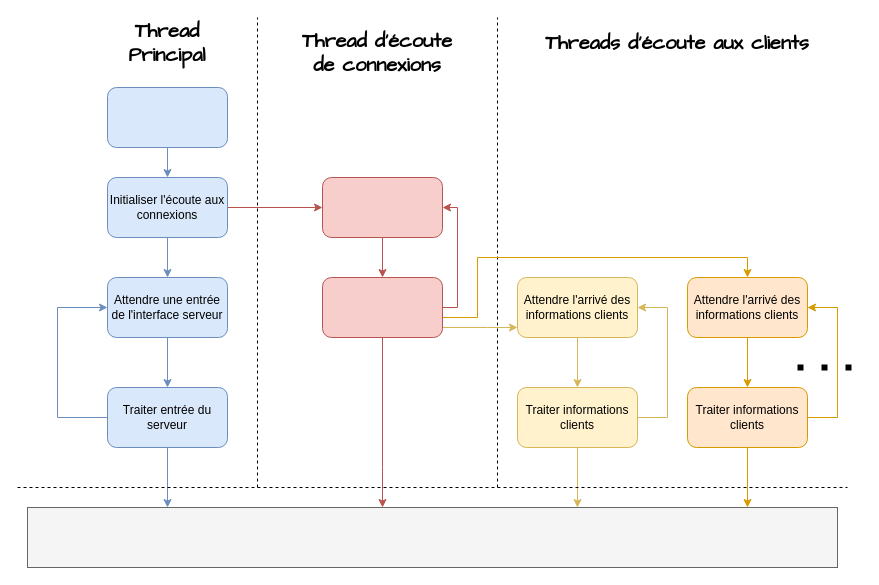
Some shapes in this 879 by 585 pixel diagram are drawn without their labels. Here are the shapes that lost their labels. From the top down, the centre of each, then its label:
(167,117): Initialiser le Serveur
(382,207): Attendre l'arrivé d'une connexion
(382,307): Initialiser l'écoute à une connexion
(432,537): Mémoire Partagé
